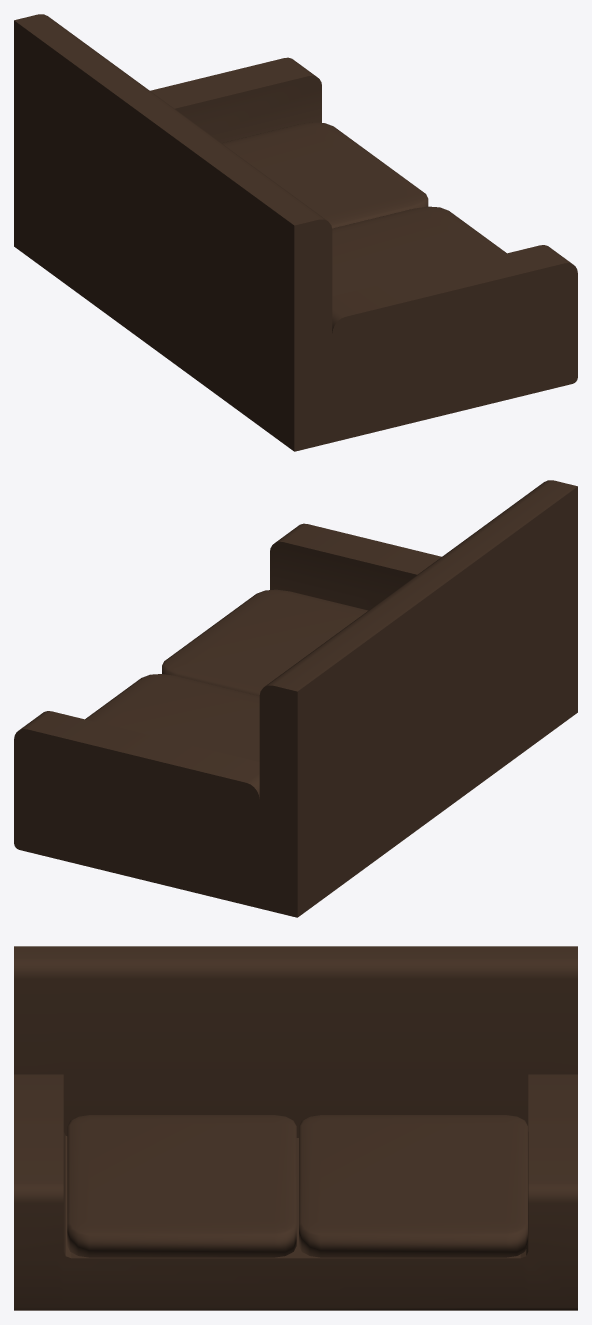
File: couch.fbx
The picture shows the model from 3 angles, top to bottom: view 1: azimuth 30°, elevation 25°; view 2: azimuth 150°, elevation 25°; view 3: azimuth 270°, elevation 25°; orthographic projection.
Parts seen in each view (by area): view 1: Cube, Cube.002, Cube.001; view 2: Cube, Cube.001, Cube.002; view 3: Cube, Cube.001, Cube.002.
Part boxes in pixels (box(x1,y1,x2,y2)): Cube: box(14, 14, 577, 451); Cube.002: box(222, 122, 428, 228); Cube.001: box(332, 206, 506, 295); Cube: box(14, 480, 577, 917); Cube.001: box(162, 589, 368, 696); Cube.002: box(85, 674, 259, 761); Cube: box(14, 946, 577, 1310); Cube.001: box(67, 1115, 296, 1257); Cube.002: box(299, 1115, 527, 1257).
Bounding box in the file's own units: 203 × 154 × 346.
